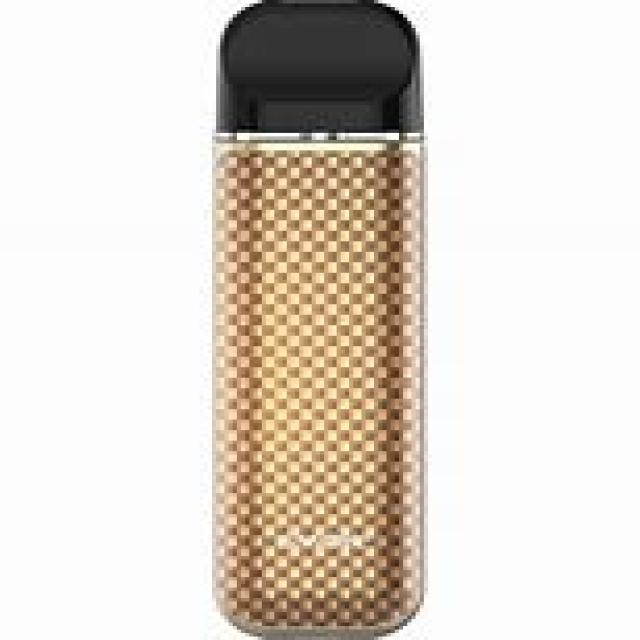Hazard: (208, 0, 428, 637)
